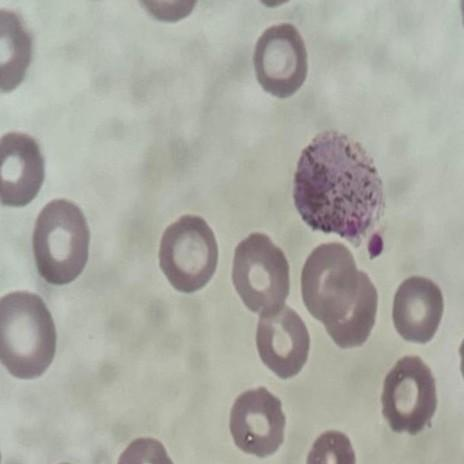Infected: (292, 129, 385, 250)
Uninfected: (234, 229, 293, 322), (33, 198, 93, 285), (157, 212, 219, 294), (301, 239, 356, 324), (381, 353, 437, 436), (0, 294, 54, 377), (321, 265, 374, 347), (252, 303, 308, 379), (255, 23, 310, 97), (230, 388, 284, 455), (391, 273, 441, 345), (0, 130, 46, 206)
